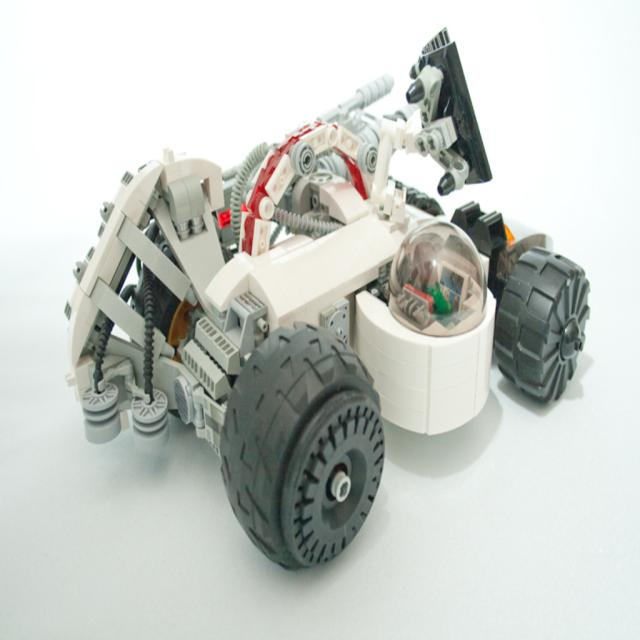Toy: (60, 11, 606, 594)
